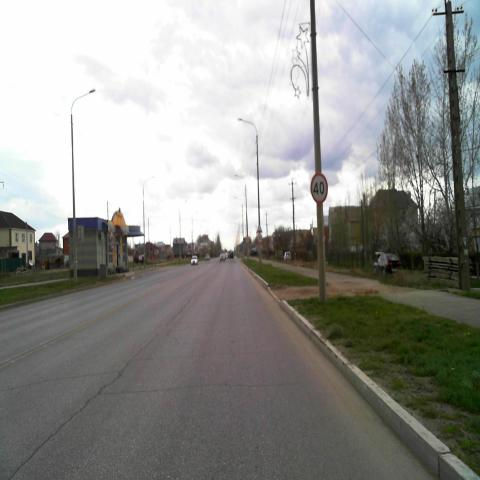1_17: (256, 223, 262, 233)
2_1: (246, 235, 250, 244)
3_24: (310, 172, 328, 204)
